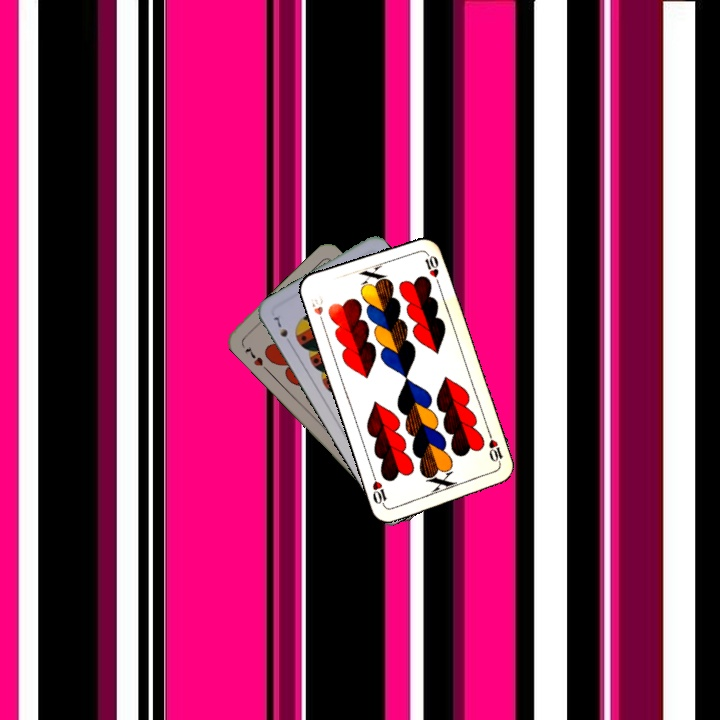H10: (484, 429, 505, 468), (307, 292, 327, 328)
H7: (241, 342, 265, 369)
S7: (270, 312, 294, 348)
